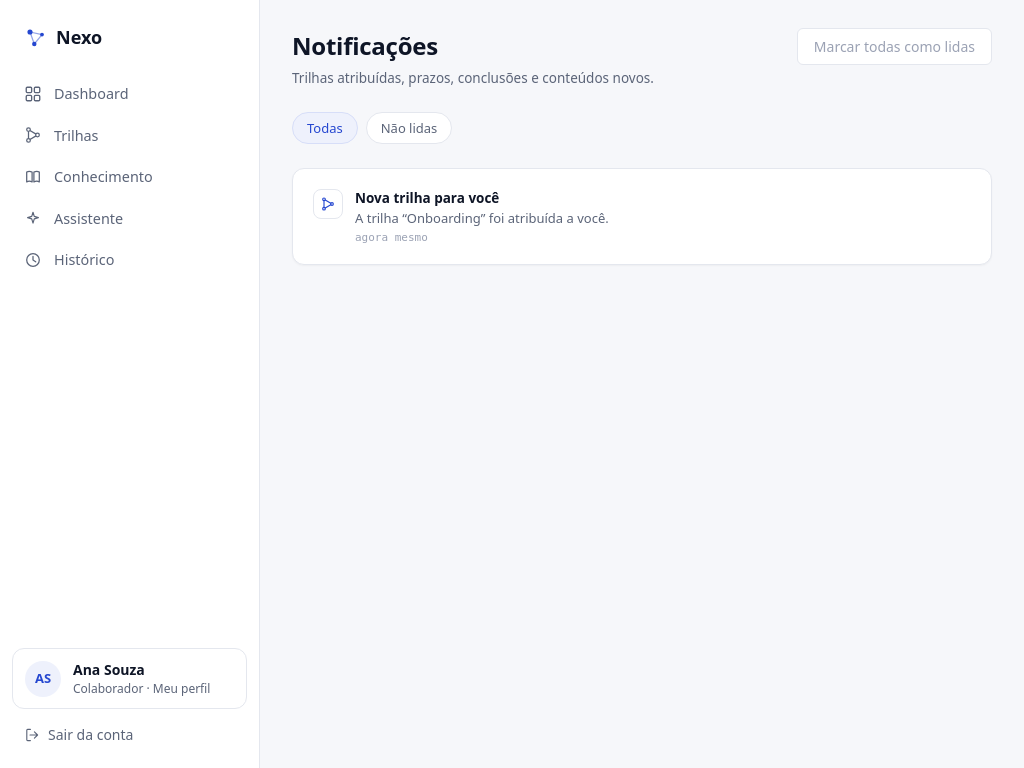
Test: NotificacoesPage › filtro sem resultado tem mensagem própria
Expected: the text "Nova trilha para você" is shown, top-left (355, 189), bottom-right (499, 207)
Click the button "Não lidas".
click(409, 128)  # box top-left (366, 112), bottom-right (452, 144)
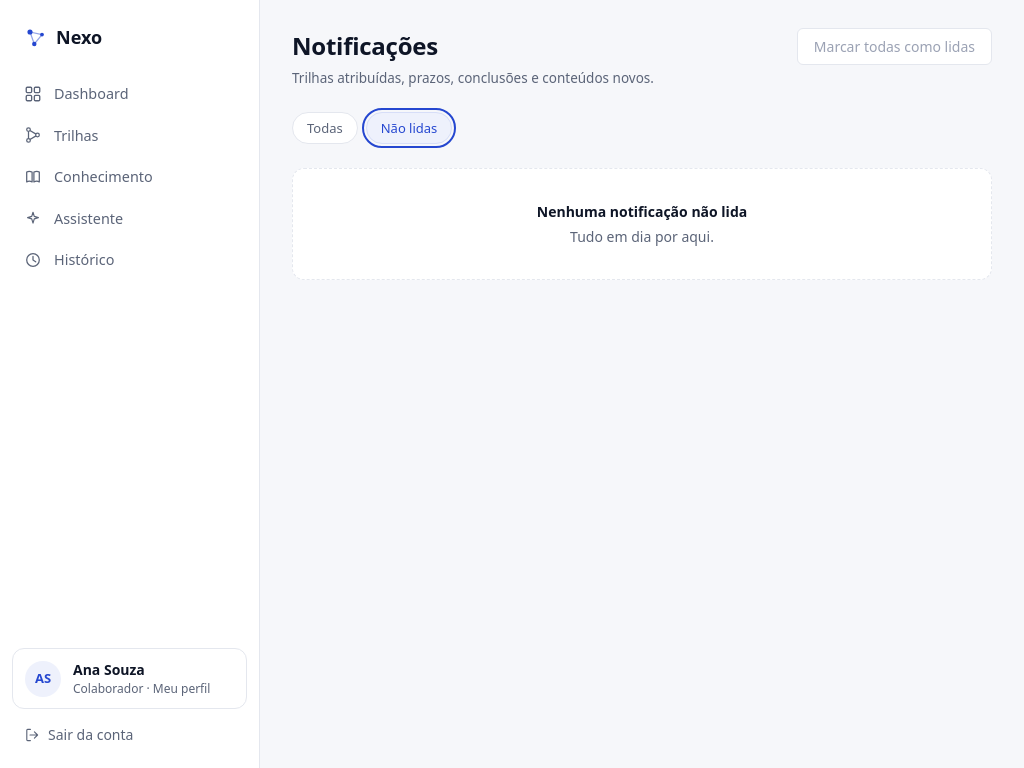
Now the text "Nenhuma notificação não lida" is shown, box top-left (537, 202), bottom-right (747, 221)
